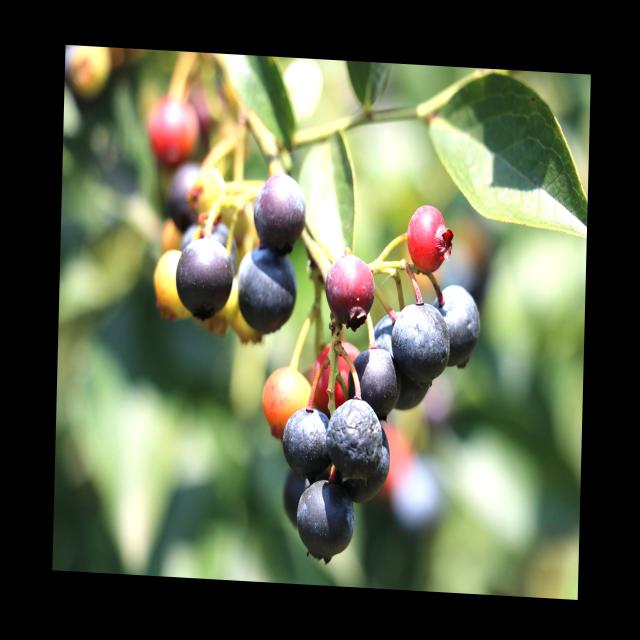blueberry: (242, 238, 298, 335), (298, 474, 356, 558), (391, 301, 450, 383), (327, 396, 382, 482), (431, 283, 482, 368), (178, 240, 230, 319), (254, 170, 304, 250), (282, 404, 332, 476), (347, 348, 397, 411), (165, 162, 209, 231)
blueberry-halfripe: (322, 251, 378, 320), (306, 339, 362, 406), (261, 363, 310, 438), (403, 203, 452, 276)
